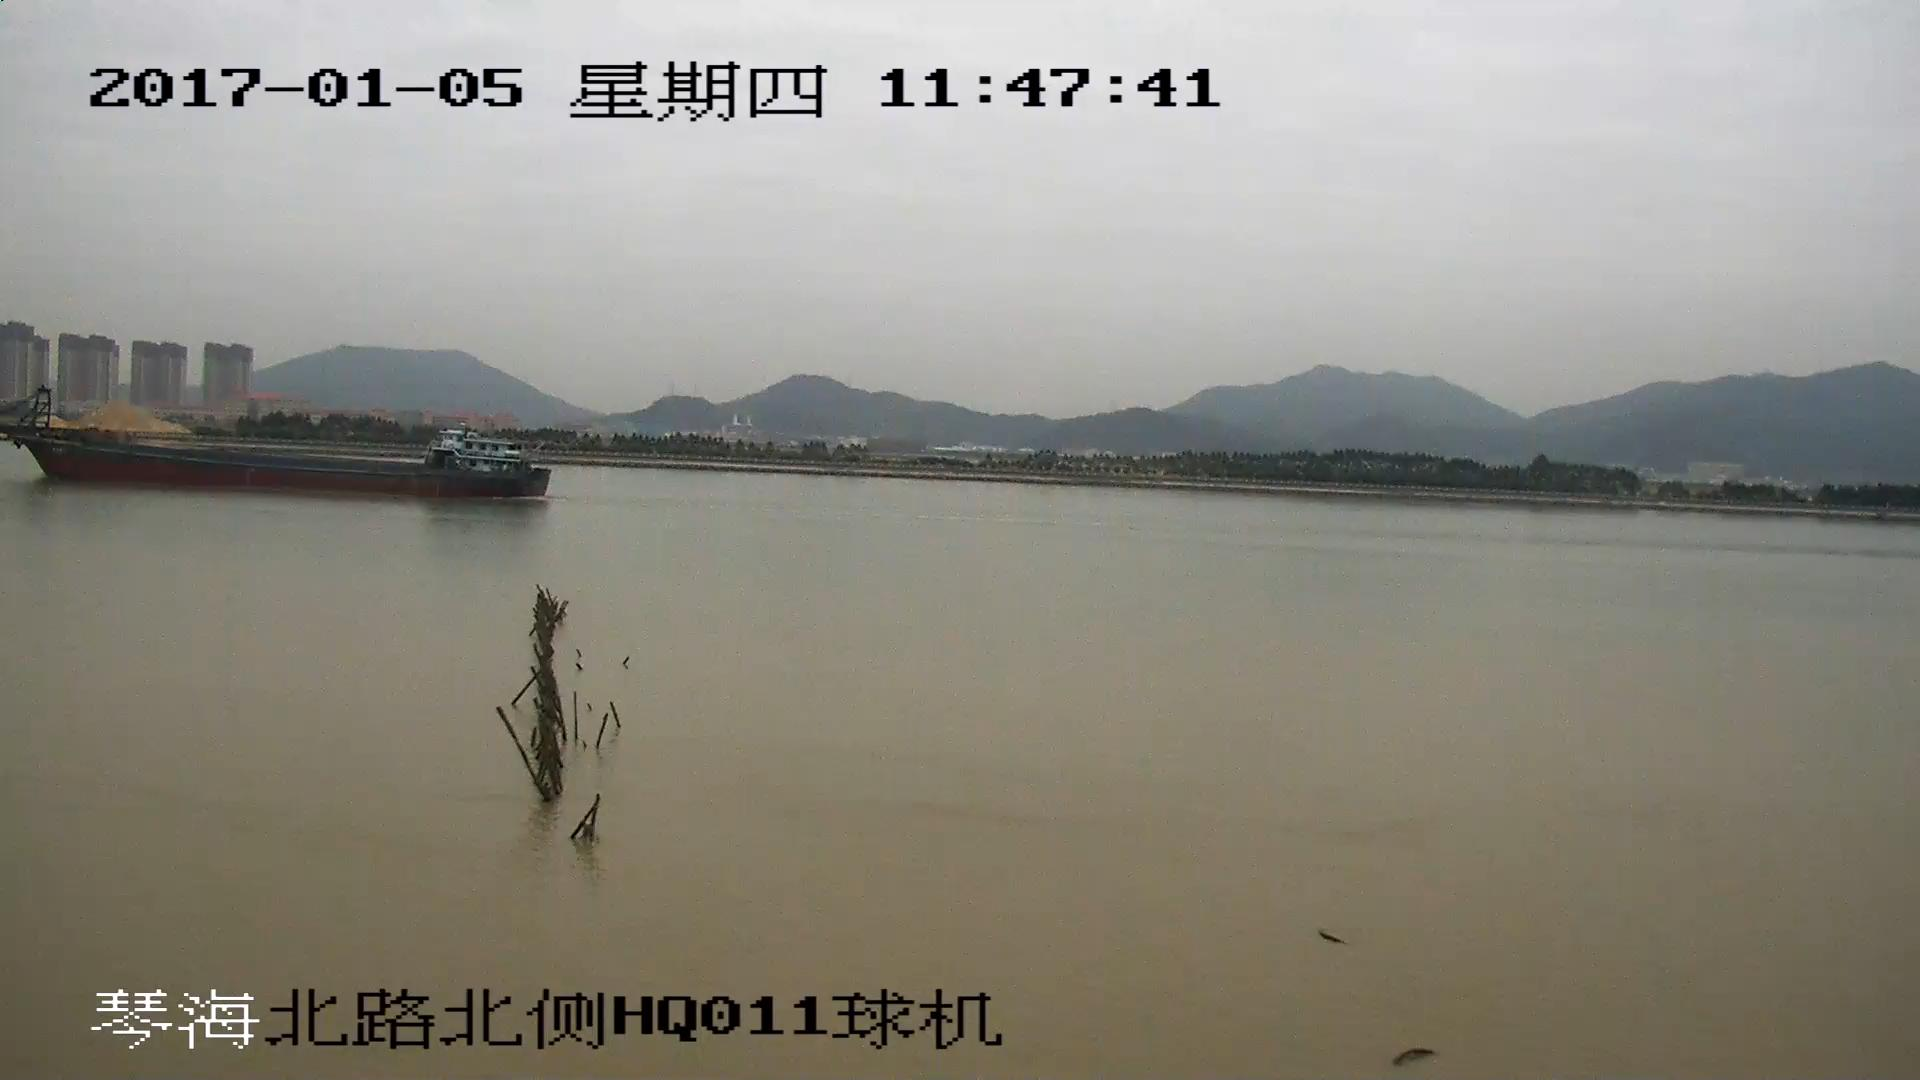bulk cargo carrier: (1, 390, 559, 497)
